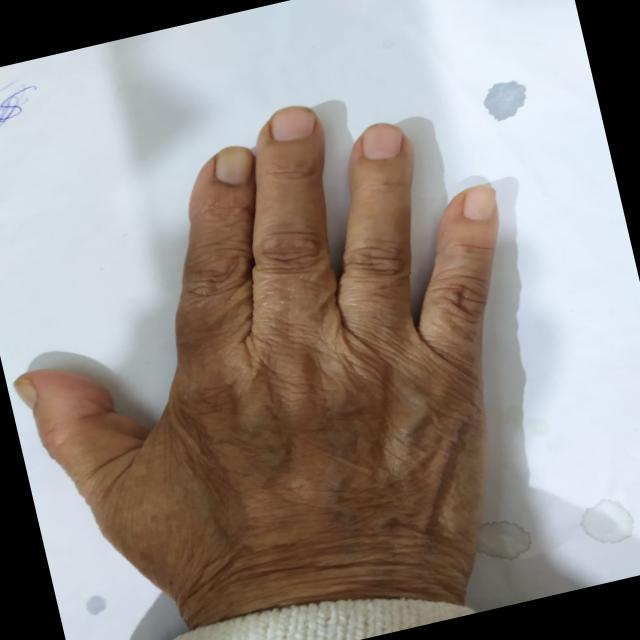Nail: (214, 144, 254, 185), (269, 105, 314, 140), (360, 122, 402, 159), (461, 183, 496, 220), (13, 377, 37, 406)
